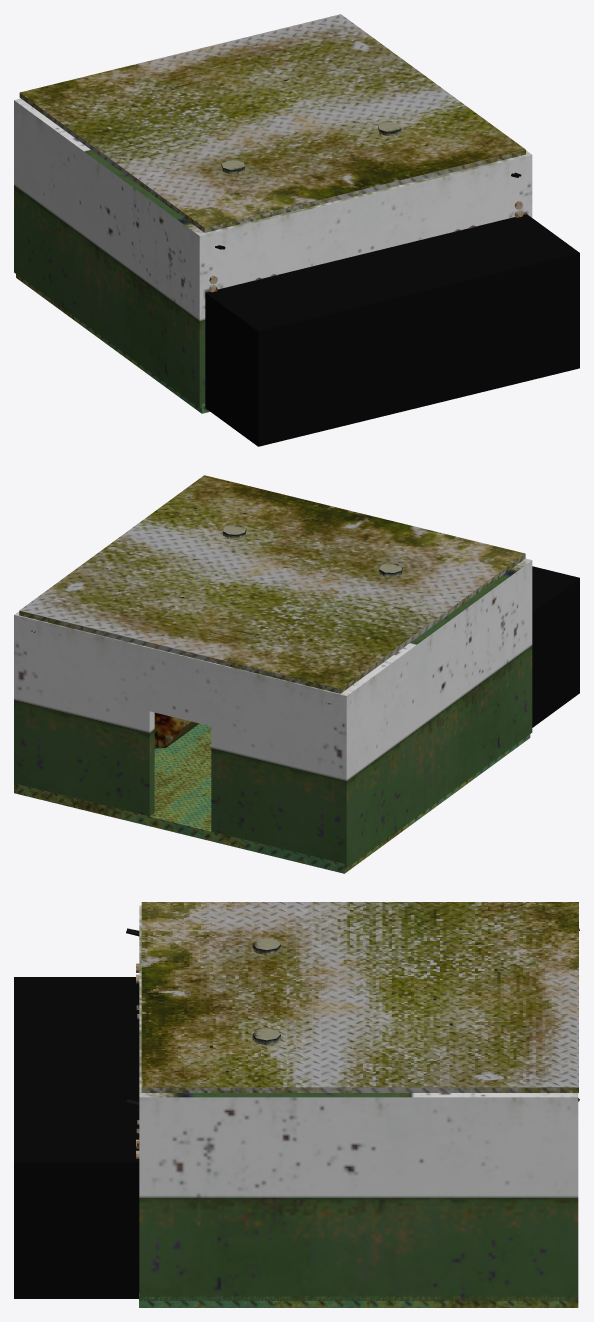
Rendered from engineroom6.fbx.
The picture shows the model from 3 angles, top to bottom: view 1: azimuth 30°, elevation 25°; view 2: azimuth 150°, elevation 25°; view 3: azimuth 270°, elevation 25°; orthographic projection. The views are drawn at different scales.
Parts seen in each view (by area): view 1: Cube.004, Cube.003, Cube, Cube.005; view 2: Cube, Cube.004, Cube.005, Cube.003, engine_princ.002; view 3: Cube, Cube.004, Cube.003, Cube.005.
Boxes of the visible parts, x1,y1,x2,y2 form: Cube.004: (19, 14, 525, 232); Cube.003: (205, 214, 579, 446); Cube: (14, 98, 532, 408); Cube.005: (16, 274, 209, 413); Cube: (14, 558, 532, 868); Cube.004: (19, 475, 525, 693); Cube.005: (14, 723, 530, 873); Cube.003: (532, 566, 579, 727); engine_princ.002: (154, 712, 199, 748); Cube: (139, 905, 578, 1300); Cube.004: (141, 902, 578, 1092); Cube.003: (14, 977, 139, 1298); Cube.005: (139, 1293, 578, 1307).
Size of the model in its own units: 724 by 392 by 903.
Materials: 28 (27 with a texture image).
